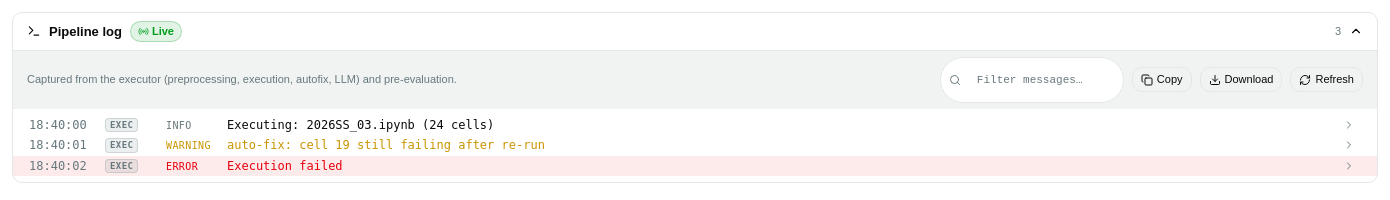
Test: pipeline-log-panel › shows run progress in the compact collapsed strip while live
Click the button "Pipeline log Live 3": coordinates (85, 31) [13, 13, 1377, 50]
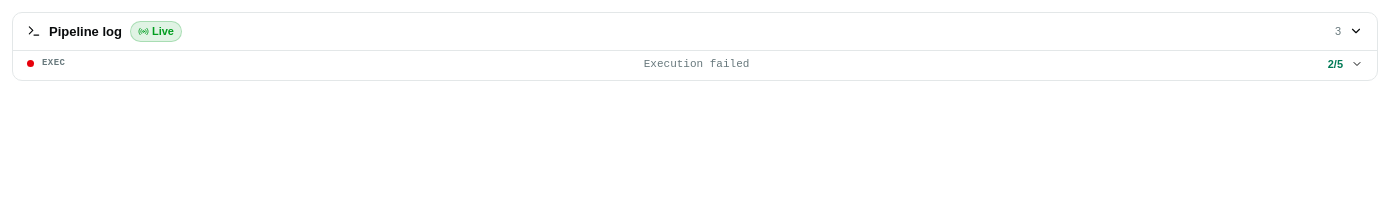
Expected: the text "2/5" is shown, [1328, 56, 1343, 72]
